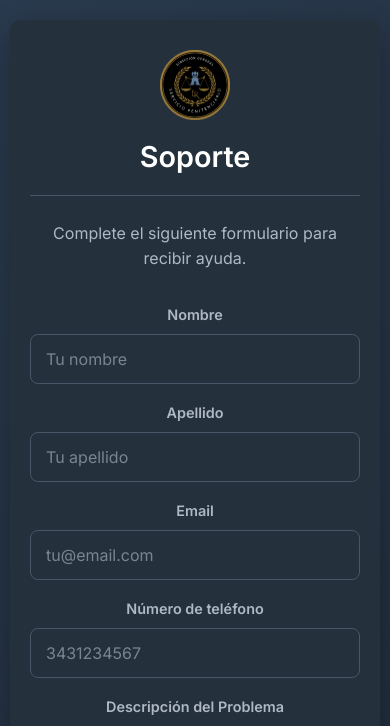
Test: Componente Support (Formulario de Soporte) › El botón "Limpiar Campos" debe reiniciar el formulario
Type "Texto a borrar" into the field labelled "Nombre" at (195, 359), box [30,334,360,384]
(page scrolled)
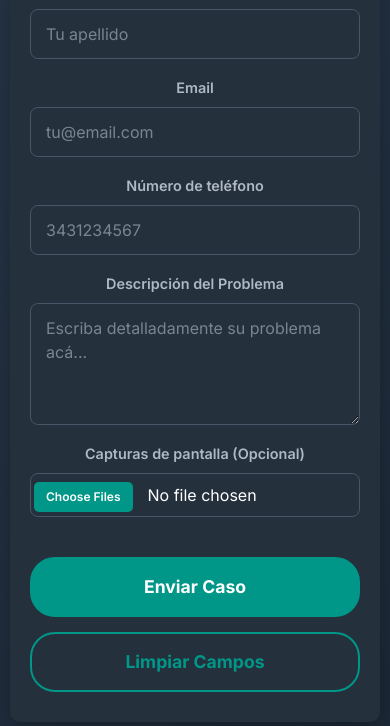
Click the button "Limpiar Campos" at (195, 662), box [30,632,360,692]
(page scrolled)
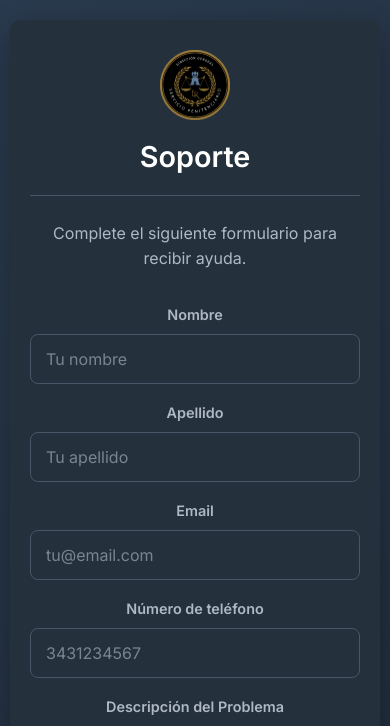
Check: the field labelled "Nombre" is empty, box [30,334,360,384]
